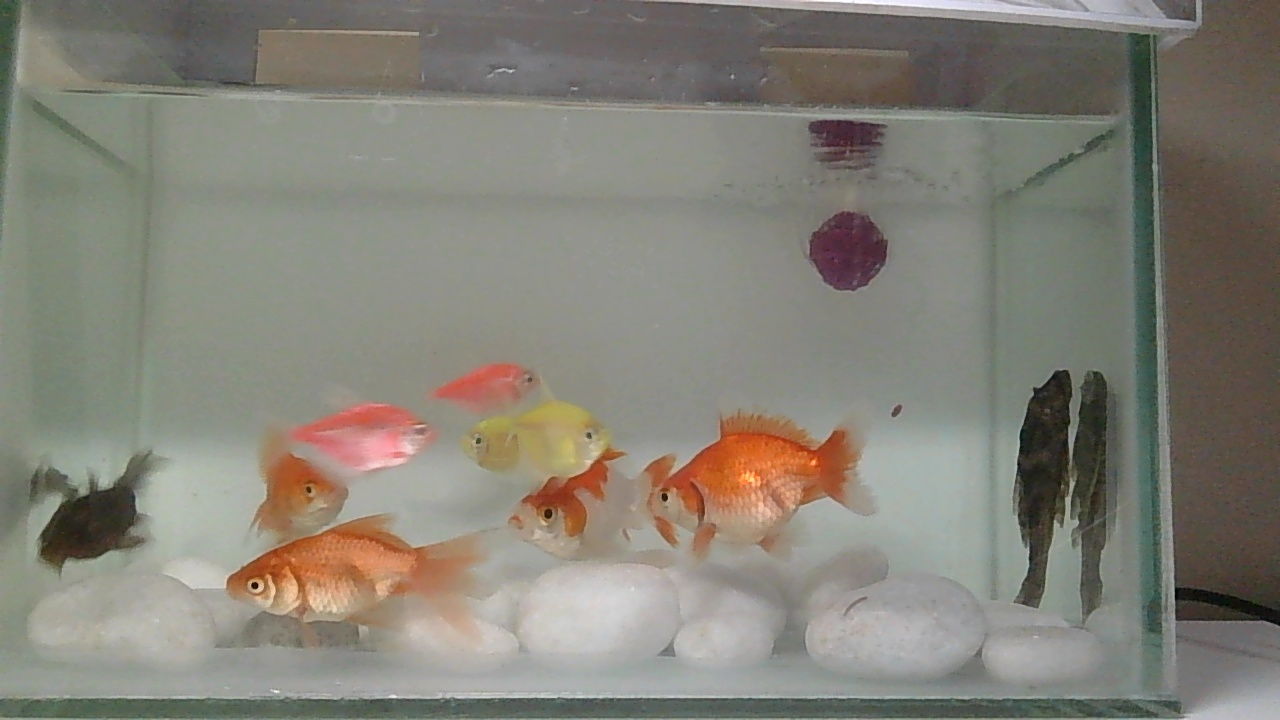fish: (640, 406, 876, 557), (238, 394, 434, 566), (222, 511, 484, 621), (24, 449, 172, 576), (260, 396, 435, 493), (804, 209, 891, 293), (429, 358, 541, 415)
